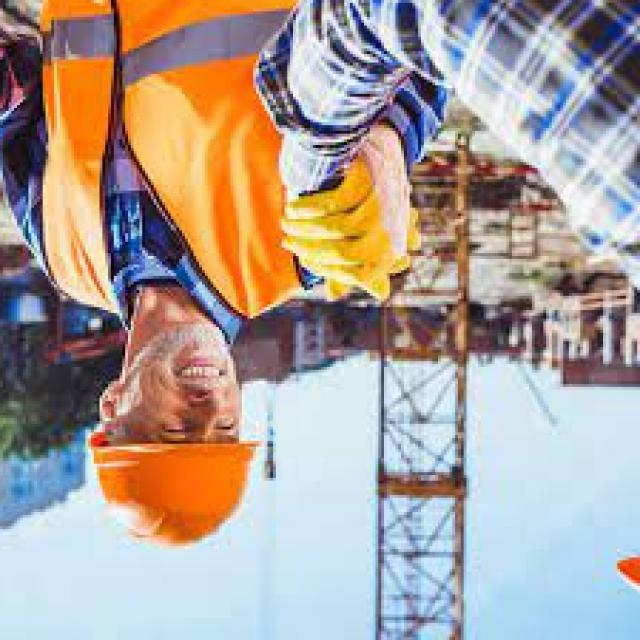safetyhelmet: (79, 402, 258, 552)
